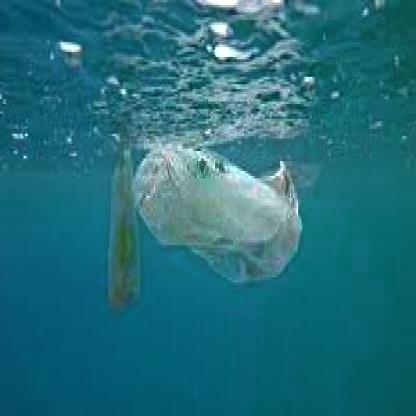pbag: (130, 136, 308, 300), (100, 131, 148, 317)
